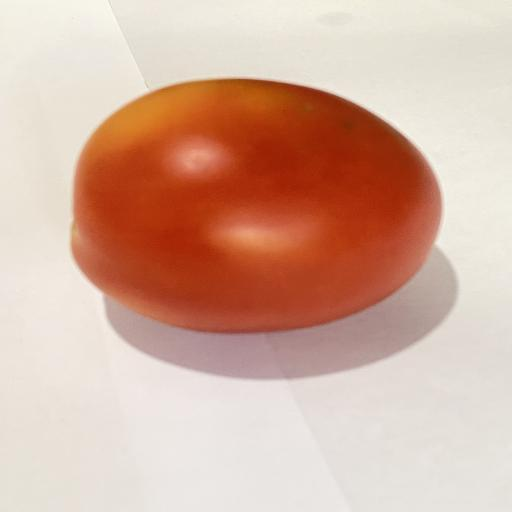ripe: (71, 79, 441, 332)
